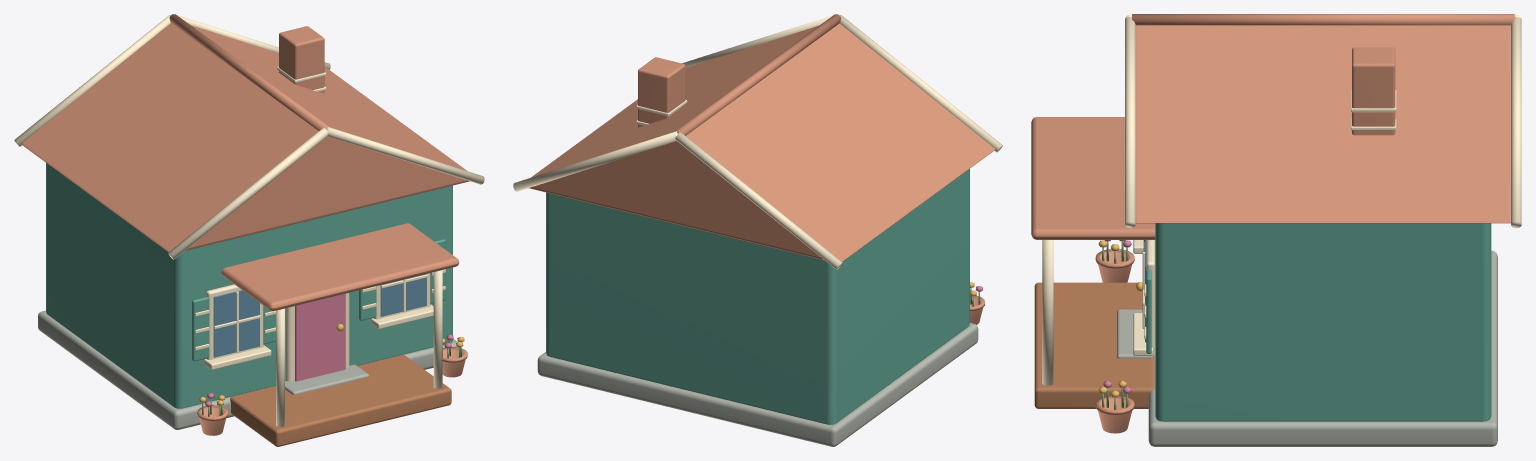
The model's file is Porch_cottage.fbx.
The picture shows the model from 3 angles, left to right: view 1: azimuth 30°, elevation 25°; view 2: azimuth 150°, elevation 25°; view 3: azimuth 270°, elevation 25°; orthographic projection. The views are drawn at different scales.
Parts seen in each view (by area): view 1: Town_Porch_cottage Gabled roof.001, Town_Porch_cottage Plaster walls.001, Town_Porch_cottage Porch awning.001, Town_Porch_cottage Porch deck.001, Town_Porch_cottage Foundation.001, Town_Porch_cottage Front door.001, Town_Porch_cottage Window glass.002, Town_Porch_cottage Chimney.001, Town_Porch_cottage Ridge cap.001, Town_Porch_cottage Roof fascia.004, Town_Porch_cottage Roof fascia.005, Town_Porch_cottage Roof fascia.006 (+13 smaller); view 2: Town_Porch_cottage Plaster walls.001, Town_Porch_cottage Gabled roof.001, Town_Porch_cottage Foundation.001, Town_Porch_cottage Chimney.001, Town_Porch_cottage Ridge cap.001, Town_Porch_cottage Roof fascia.006, Town_Porch_cottage Roof fascia.007, Town_Porch_cottage Roof fascia.004, Town_Porch_cottage Roof fascia.005; view 3: Town_Porch_cottage Gabled roof.001, Town_Porch_cottage Plaster walls.001, Town_Porch_cottage Porch awning.001, Town_Porch_cottage Porch deck.001, Town_Porch_cottage Foundation.001, Town_Porch_cottage Ridge cap.001, Town_Porch_cottage Chimney.001, Town_Porch_cottage Roof fascia.007, Town_Porch_cottage Roof fascia.005, Town_Porch_cottage Porch column.003, Town_Porch_cottage Terracotta pot.003, Town_Porch_cottage Terracotta pot.002 (+4 smaller).
Boxes of the visible parts, x1,y1,x2,y2 form: Town_Porch_cottage Gabled roof.001: (21,23,469,252); Town_Porch_cottage Plaster walls.001: (46,163,452,408); Town_Porch_cottage Porch awning.001: (221,223,459,311); Town_Porch_cottage Porch deck.001: (230,355,451,446); Town_Porch_cottage Foundation.001: (38,310,458,429); Town_Porch_cottage Front door.001: (295,293,345,381); Town_Porch_cottage Window glass.002: (213,290,259,357); Town_Porch_cottage Chimney.001: (279,26,324,93); Town_Porch_cottage Ridge cap.001: (169,14,328,130); Town_Porch_cottage Roof fascia.004: (168,127,328,259); Town_Porch_cottage Roof fascia.005: (326,127,484,184); Town_Porch_cottage Roof fascia.006: (14,15,170,146); Town_Porch_cottage Plaster walls.001: (546,169,969,424); Town_Porch_cottage Gabled roof.001: (529,23,995,261); Town_Porch_cottage Foundation.001: (537,322,978,446); Town_Porch_cottage Chimney.001: (638,57,685,127); Town_Porch_cottage Ridge cap.001: (675,14,841,135); Town_Porch_cottage Roof fascia.006: (675,132,842,269); Town_Porch_cottage Roof fascia.007: (513,131,677,191); Town_Porch_cottage Roof fascia.004: (840,15,1002,152); Town_Porch_cottage Roof fascia.005: (682,14,838,67); Town_Porch_cottage Gabled roof.001: (1135,25,1510,223); Town_Porch_cottage Plaster walls.001: (1155,223,1491,421); Town_Porch_cottage Porch awning.001: (1031,117,1155,239); Town_Porch_cottage Porch deck.001: (1034,282,1154,408); Town_Porch_cottage Foundation.001: (1148,250,1497,446); Town_Porch_cottage Ridge cap.001: (1132,14,1514,25); Town_Porch_cottage Chimney.001: (1352,47,1395,135); Town_Porch_cottage Roof fascia.007: (1511,17,1521,228); Town_Porch_cottage Roof fascia.005: (1125,17,1135,228); Town_Porch_cottage Porch column.003: (1042,240,1053,385); Town_Porch_cottage Terracotta pot.003: (1095,395,1134,433); Town_Porch_cottage Terracotta pot.002: (1095,249,1134,282).
Bounding box in the file's own units: 678 × 575 × 731.
